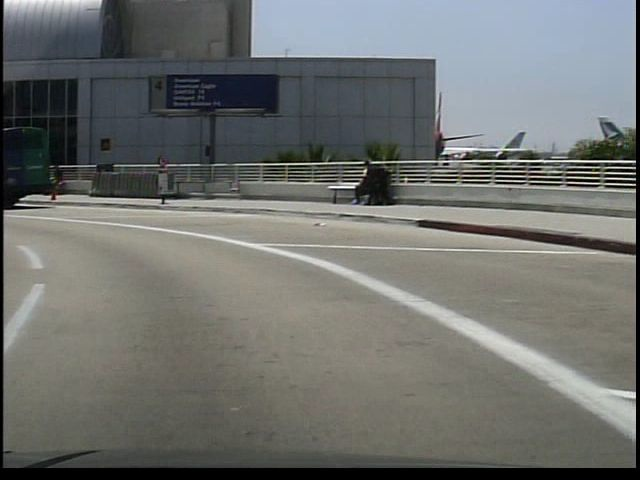person: (47, 163, 66, 201)
